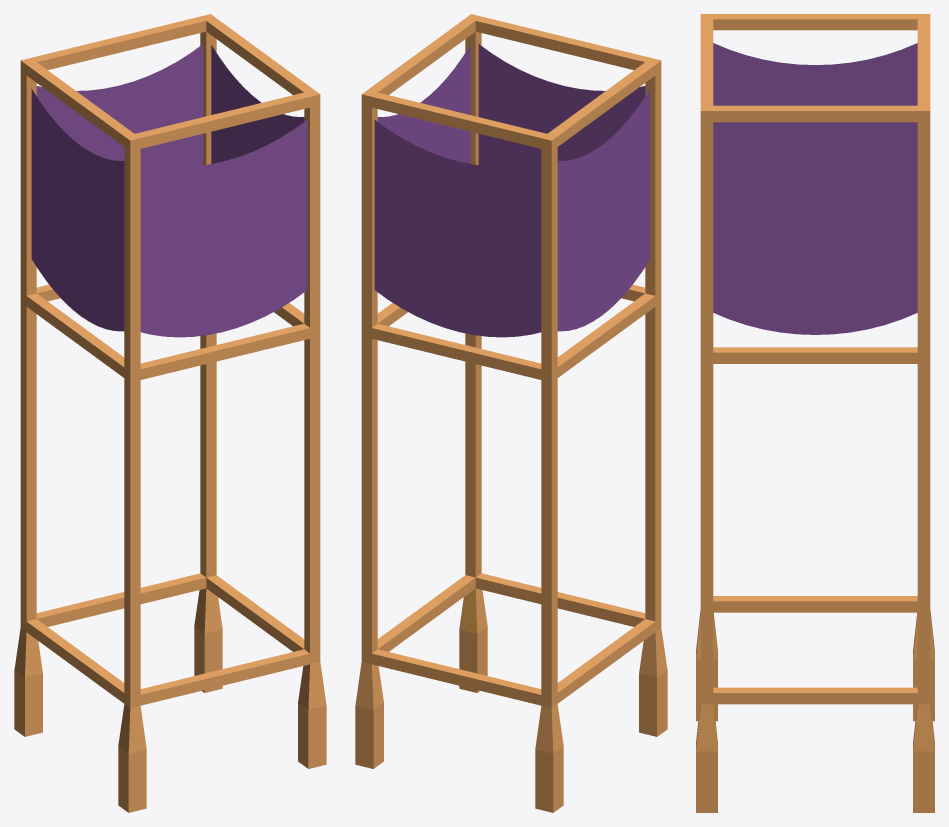
File: bannerTowerGreen.glb
The picture shows the model from 3 angles, left to right: view 1: azimuth 30°, elevation 25°; view 2: azimuth 150°, elevation 25°; view 3: azimuth 270°, elevation 25°; orthographic projection. The views are drawn at different scales.
Parts seen in each view (by area): view 1: bannerTowerGreen(Clone); view 2: bannerTowerGreen(Clone); view 3: bannerTowerGreen(Clone).
Boxes of the visible parts, x1=… form: bannerTowerGreen(Clone): x1=14, y1=14, x2=326, y2=812; bannerTowerGreen(Clone): x1=355, y1=14, x2=667, y2=812; bannerTowerGreen(Clone): x1=696, y1=14, x2=934, y2=812.
Bounding box in the file's own units: 0.3852 × 1.25 × 0.3852.
